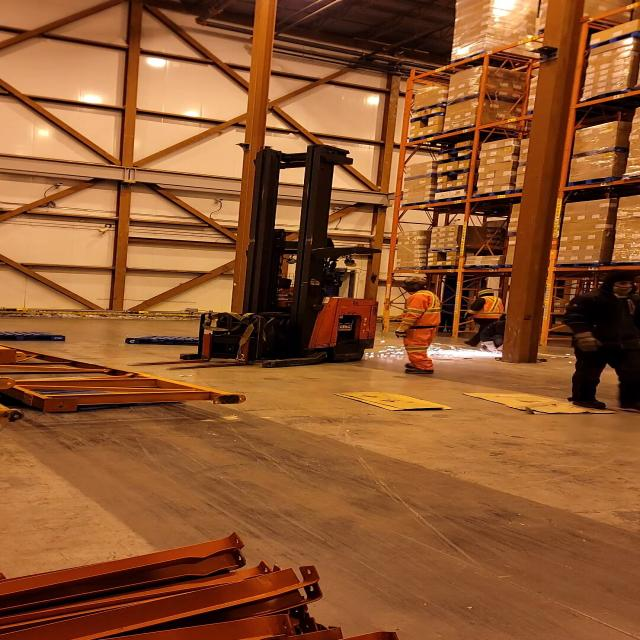forklift: (177, 152, 383, 370)
human: (562, 272, 640, 411), (386, 277, 447, 373), (460, 287, 508, 345), (473, 320, 524, 357)
objectofinterest: (0, 344, 244, 421), (461, 389, 633, 415), (328, 389, 461, 415), (119, 332, 211, 348), (0, 327, 72, 342)
